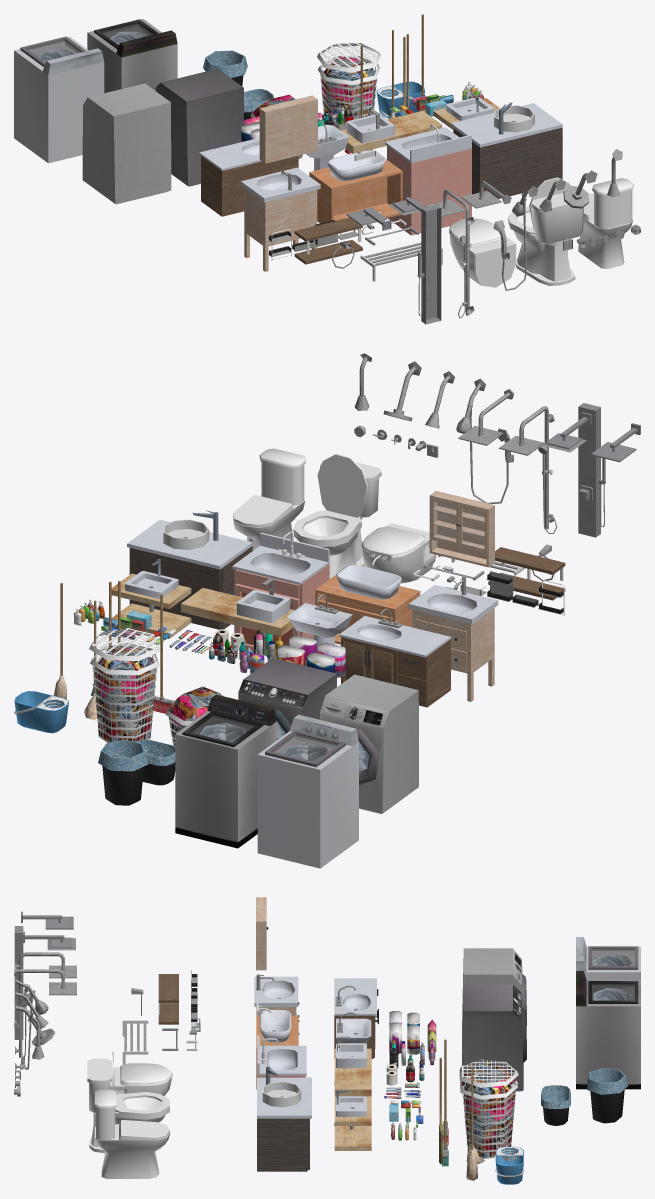
File: bath_hygiene.glb
3 views of the same model, one above another, from view 1: azimuth 30°, elevation 25°; view 2: azimuth 150°, elevation 25°; view 3: azimuth 270°, elevation 25° (orthographic). The views are drawn at different scales.
Visible parts, largest first — view 1: Washing_machine_01, Washing_machine_03, Washbasin, Washing_machine, Washbasin_01, Washbasin_03, Washbasin_02, Washing_machine_02, Toilet_01, Washbasin_07, Bathroom_cabinet, Toilet (+23 smaller); view 2: Washing_machine_03, Washing_machine_02, Washing_machine_01, Washbasin_01, Washbasin_03, Washbasin, Washbasin_02, Washing_machine, Washbasin_07, Washbasin_05, Watering_can_06, Dirty _clothes (+29 smaller); view 3: Washing_machine_02, Washbasin, Washing_machine, Toilet, Dirty _clothes, Washing_machine_01, Basket, Washbasin_04, Washbasin_05, Toilet_01, Washbasin_07, Trash_can_01 (+24 smaller).
Boxes of the visible parts, box(x1,y1,x2,y2) form: Washing_machine_01: box(82, 83, 171, 204); Washing_machine_03: box(14, 37, 104, 163); Washbasin: box(451, 102, 562, 198); Washing_machine: box(155, 68, 243, 186); Washbasin_01: box(385, 124, 471, 235); Washbasin_03: box(241, 167, 320, 271); Washbasin_02: box(309, 150, 402, 223); Washing_machine_02: box(87, 19, 177, 93); Toilet_01: box(508, 193, 583, 285); Washbasin_07: box(199, 138, 298, 216); Bathroom_cabinet: box(259, 95, 317, 163); Toilet: box(578, 178, 633, 268); Washing_machine_03: box(257, 714, 358, 868); Washing_machine_02: box(175, 694, 276, 848); Washing_machine_01: box(320, 674, 418, 813); Washbasin_01: box(232, 531, 329, 655); Washbasin_03: box(408, 578, 498, 701); Washbasin: box(127, 512, 252, 629); Washbasin_02: box(315, 549, 420, 644); Washing_machine: box(238, 658, 336, 740); Washbasin_07: box(339, 608, 450, 707); Washbasin_05: box(181, 578, 294, 640); Watering_can_06: box(542, 403, 605, 537); Dirty _clothes: box(93, 646, 155, 742); Washing_machine_02: box(576, 971, 640, 1089); Washbasin: box(257, 1068, 311, 1171); Washing_machine: box(462, 984, 523, 1091); Toilet: box(94, 1089, 170, 1178); Dirty _clothes: box(464, 1074, 514, 1157); Washing_machine_01: box(462, 948, 522, 1052); Basket: box(460, 1072, 517, 1158); Washbasin_04: box(334, 1090, 371, 1150); Washbasin_05: box(334, 1036, 371, 1096); Toilet_01: box(87, 1058, 169, 1153); Washbasin_07: box(334, 978, 376, 1058); Trash_can_01: box(587, 1068, 628, 1123).
Bounding box in the file's own units: 4.92 × 2.25 × 8.15.
29 materials, 24 textured.
